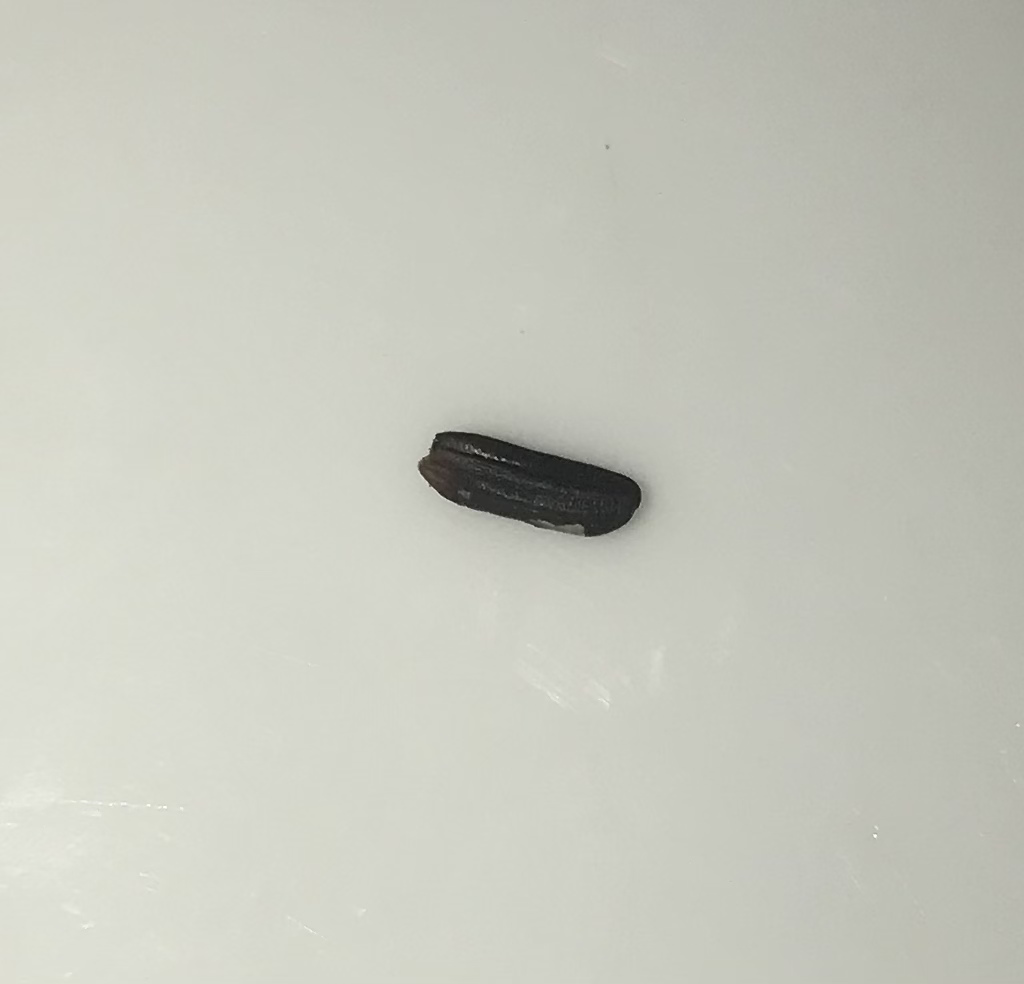Gao lut: (401, 403, 653, 565)
